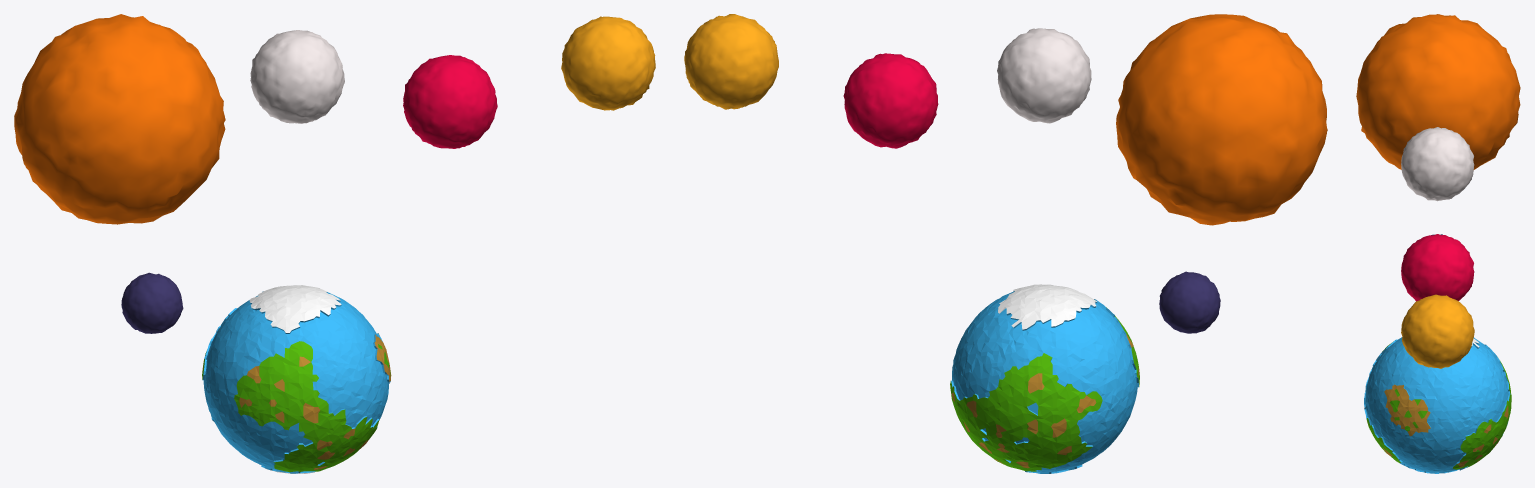
The model's file is planetebi-0004.fbx.
The picture shows the model from 3 angles, left to right: view 1: azimuth 30°, elevation 25°; view 2: azimuth 150°, elevation 25°; view 3: azimuth 270°, elevation 25°; orthographic projection. The views are drawn at different scales.
Visible parts, largest first — view 1: Sphere_4, Sphere, Sphere_3, mars_moon_2, mars_moon_1, Sphere_5; view 2: Sphere_4, Sphere, mars_moon_1, mars_moon_2, Sphere_3, Sphere_5; view 3: Sphere_4, Sphere, mars_moon_2, Sphere_3, mars_moon_1.
Boxes of the visible parts, x1=… form: Sphere_4: x1=14, y1=14, x2=225, y2=224; Sphere: x1=202, y1=285, x2=391, y2=473; Sphere_3: x1=250, y1=30, x2=344, y2=123; mars_moon_2: x1=561, y1=16, x2=655, y2=110; mars_moon_1: x1=403, y1=55, x2=497, y2=148; Sphere_5: x1=121, y1=272, x2=183, y2=333; Sphere_4: x1=1116, y1=14, x2=1327, y2=225; Sphere: x1=950, y1=284, x2=1139, y2=473; mars_moon_1: x1=843, y1=53, x2=938, y2=148; mars_moon_2: x1=684, y1=14, x2=778, y2=109; Sphere_3: x1=997, y1=28, x2=1091, y2=123; Sphere_5: x1=1159, y1=271, x2=1220, y2=333; Sphere_4: x1=1356, y1=14, x2=1520, y2=169; Sphere: x1=1364, y1=337, x2=1511, y2=473; mars_moon_2: x1=1401, y1=294, x2=1474, y2=368; Sphere_3: x1=1401, y1=127, x2=1474, y2=201; mars_moon_1: x1=1401, y1=234, x2=1474, y2=301.
Size of the model in its own units: 1546 by 1148 by 453.
